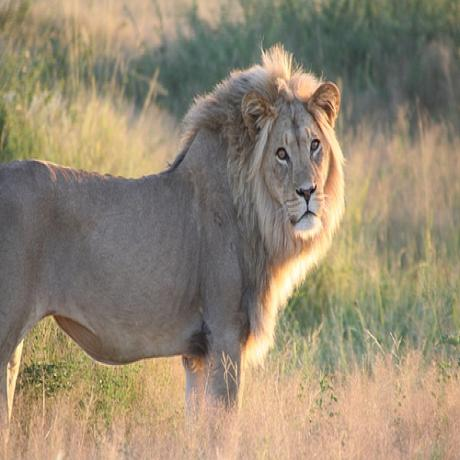Lion: (0, 58, 346, 448)
